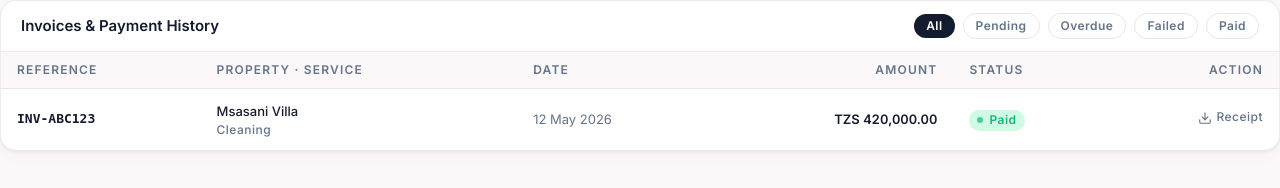
Test: OwnerInvoicesClient › shows empty state message when no rows match filter
This screenshot has width=1280, height=188.
Click the button "Pending" at (1001, 26), box [963,13,1040,39]
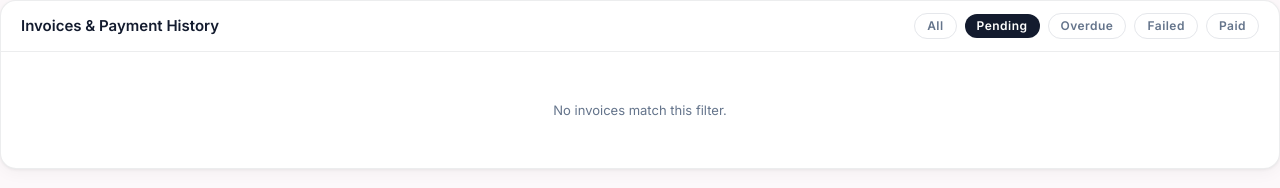
Check: the text "No invoices match this filter." is shown, box [553,102,727,118]
